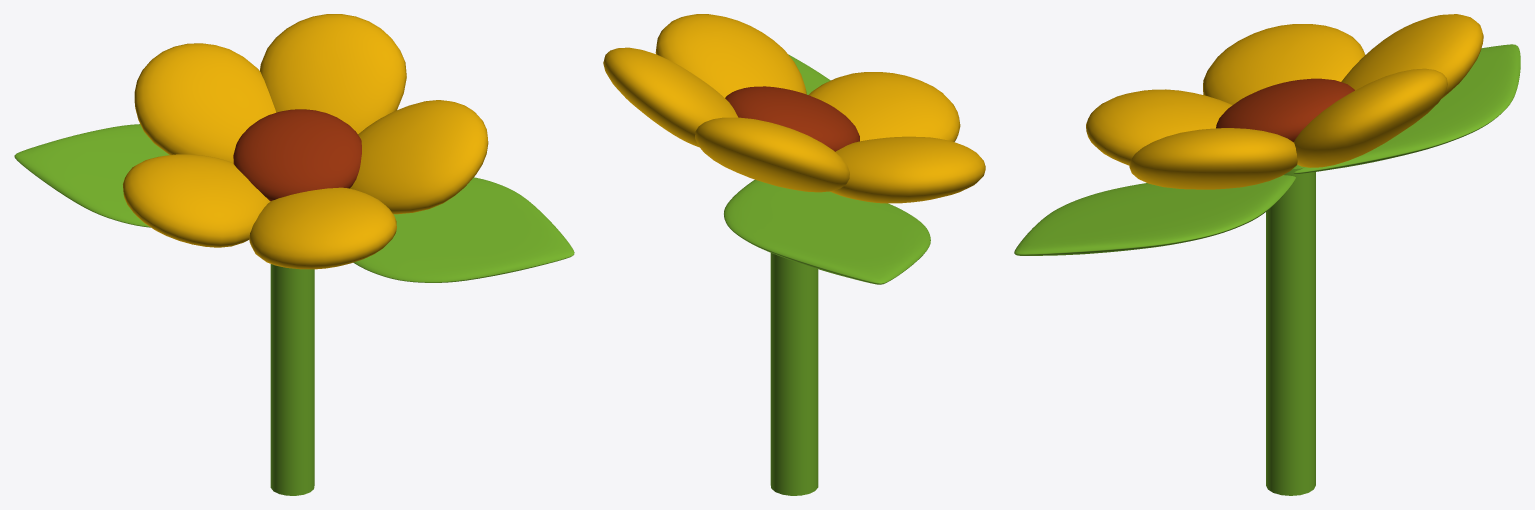
The model's file is Flower2.fbx.
The picture shows the model from 3 angles, left to right: view 1: azimuth 30°, elevation 25°; view 2: azimuth 150°, elevation 25°; view 3: azimuth 270°, elevation 25°; orthographic projection. The views are drawn at different scales.
Parts seen in each view (by area): view 1: Plane.011, Sphere.055, Sphere.054, Sphere.056, Cylinder.040, Sphere.053, Sphere.052, Sphere.051, Plane.012; view 2: Plane.012, Cylinder.040, Sphere.053, Sphere.056, Sphere.054, Sphere.052, Sphere.055, Sphere.051, Plane.011; view 3: Cylinder.040, Plane.011, Sphere.055, Sphere.056, Sphere.053, Plane.012, Sphere.052, Sphere.054, Sphere.051.
Boxes of the visible parts, box(x1,y1,x2,y2) form: Plane.011: box(353, 177, 574, 282); Sphere.055: box(260, 14, 406, 133); Sphere.054: box(134, 43, 275, 162); Sphere.056: box(349, 100, 488, 214); Cylinder.040: box(270, 264, 314, 495); Sphere.053: box(123, 154, 270, 247); Sphere.052: box(249, 187, 396, 269); Sphere.051: box(233, 109, 361, 201); Plane.012: box(14, 124, 169, 227); Plane.012: box(724, 179, 930, 284); Cylinder.040: box(770, 253, 818, 495); Sphere.053: box(830, 136, 985, 203); Sphere.056: box(655, 14, 806, 97); Sphere.054: box(695, 117, 849, 192); Sphere.052: box(808, 72, 960, 141); Sphere.055: box(603, 47, 738, 146); Sphere.051: box(725, 86, 859, 151); Plane.011: box(788, 54, 830, 94); Cylinder.040: box(1266, 167, 1315, 495); Plane.011: box(1014, 175, 1295, 255); Sphere.055: box(1294, 68, 1447, 167); Sphere.056: box(1129, 128, 1297, 189); Sphere.053: box(1203, 24, 1365, 104); Plane.012: box(1293, 44, 1520, 173); Sphere.052: box(1086, 89, 1232, 165); Sphere.054: box(1341, 14, 1483, 98); Sphere.051: box(1216, 78, 1354, 142).
Size of the model in its own units: 168 by 186 by 186.
